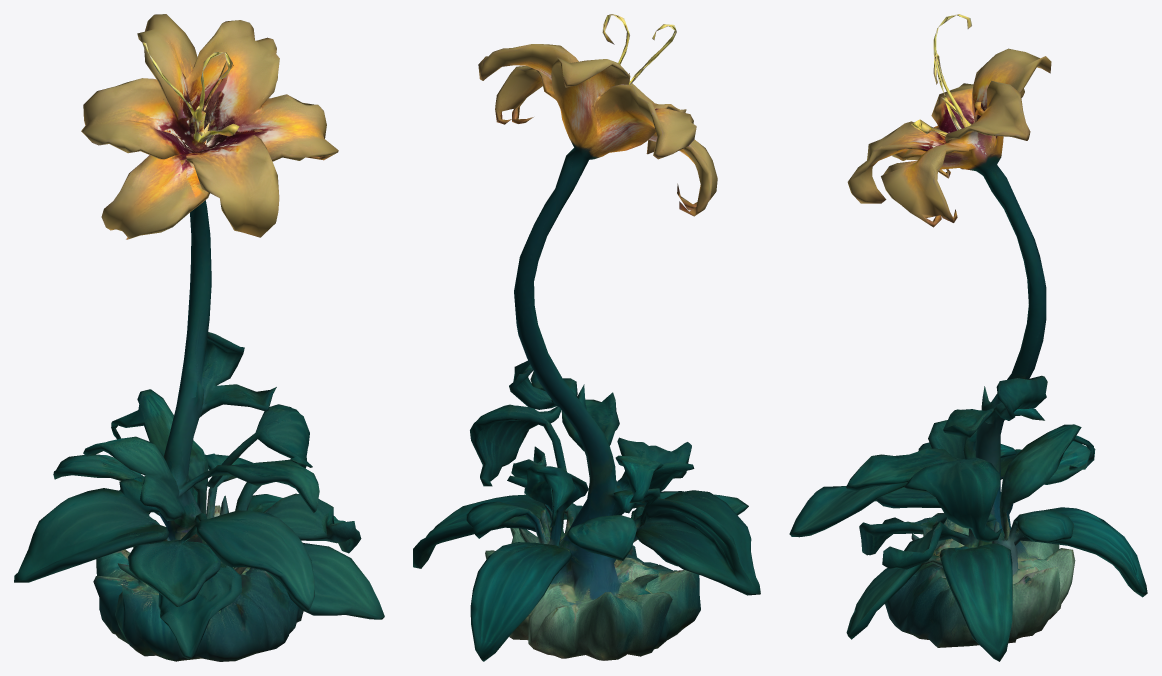
The model's file is Meshy_AI_Sunlit_Daylily_0218193218_texture.fbx.
The picture shows the model from 3 angles, left to right: view 1: azimuth 30°, elevation 25°; view 2: azimuth 150°, elevation 25°; view 3: azimuth 270°, elevation 25°; orthographic projection. The views are drawn at different scales.
Parts seen in each view (by area): view 1: Mesh_0; view 2: Mesh_0; view 3: Mesh_0.
Boxes of the visible parts, bbox=[...] form: Mesh_0: bbox=[14, 14, 384, 661]; Mesh_0: bbox=[413, 14, 760, 661]; Mesh_0: bbox=[789, 14, 1147, 661].
Size of the model in its own units: 29.61 by 50 by 28.56.
1 material, 1 textured.
